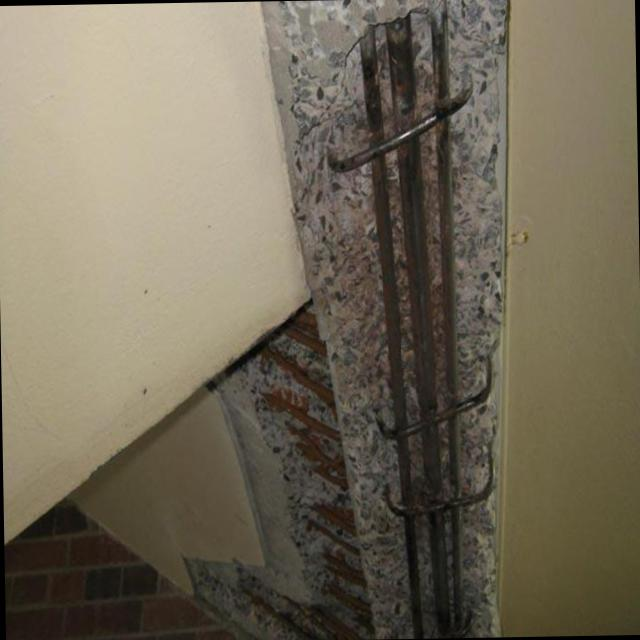spalling: (256, 0, 511, 637), (181, 304, 375, 640)
